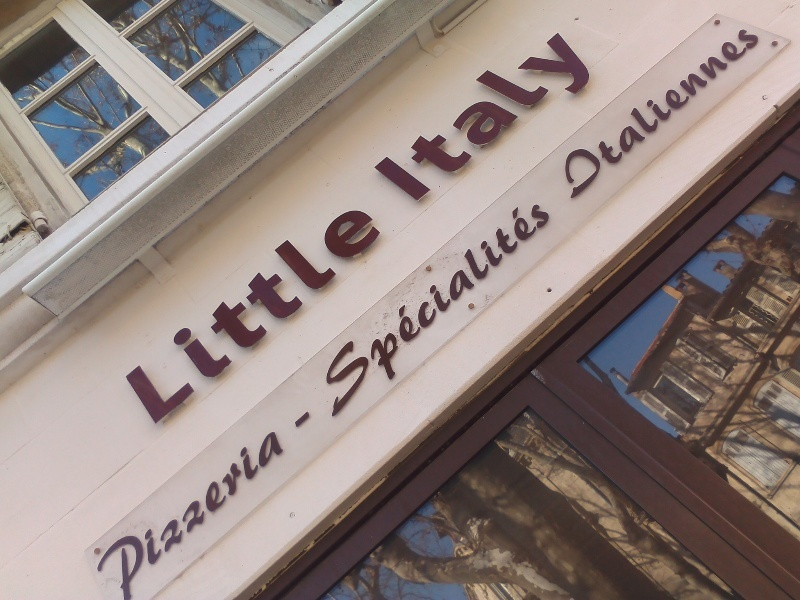text: (305, 186, 320, 430), (321, 186, 336, 430), (337, 186, 352, 430), (353, 186, 368, 430), (369, 186, 384, 430), (385, 186, 400, 430), (401, 186, 416, 430), (417, 186, 432, 430), (433, 186, 448, 430), (449, 186, 464, 430), (465, 186, 480, 430), (481, 186, 496, 430), (497, 186, 512, 430), (513, 186, 528, 430), (529, 186, 544, 430), (545, 186, 560, 430), (129, 190, 144, 429), (145, 190, 160, 429), (161, 190, 176, 429), (177, 190, 192, 429), (193, 190, 208, 429), (209, 190, 224, 429), (225, 190, 240, 429), (241, 190, 256, 429), (257, 190, 272, 429), (273, 190, 288, 429), (289, 190, 304, 429), (305, 190, 320, 429), (321, 190, 336, 429), (337, 190, 352, 429), (353, 190, 368, 429), (369, 190, 384, 429), (385, 21, 400, 215), (401, 21, 416, 215), (417, 21, 432, 215), (433, 21, 448, 215), (449, 21, 464, 215), (465, 21, 480, 215), (481, 21, 496, 215), (497, 21, 512, 215), (513, 21, 528, 215), (529, 21, 544, 215), (545, 21, 560, 215), (561, 21, 576, 215), (577, 21, 592, 215), (593, 21, 608, 215), (609, 21, 624, 215), (545, 20, 560, 206), (561, 20, 576, 206), (577, 20, 592, 206), (593, 20, 608, 206), (609, 20, 624, 206), (625, 20, 640, 206), (641, 20, 656, 206), (657, 20, 672, 206), (673, 20, 688, 206), (689, 20, 704, 206), (705, 20, 720, 206), (721, 20, 736, 206), (737, 20, 752, 206), (753, 20, 768, 206), (81, 418, 96, 600), (97, 418, 112, 600), (113, 418, 128, 600), (129, 418, 144, 600), (145, 418, 160, 600), (161, 418, 176, 600), (177, 418, 192, 600), (193, 418, 208, 600), (209, 418, 224, 600), (225, 418, 240, 600), (241, 418, 256, 600), (257, 418, 272, 600), (273, 418, 288, 600), (370, 21, 384, 215), (119, 190, 128, 429), (300, 186, 304, 430), (561, 186, 565, 430), (385, 190, 389, 429), (769, 20, 773, 206), (289, 405, 304, 431), (305, 405, 316, 431), (289, 418, 290, 600)
